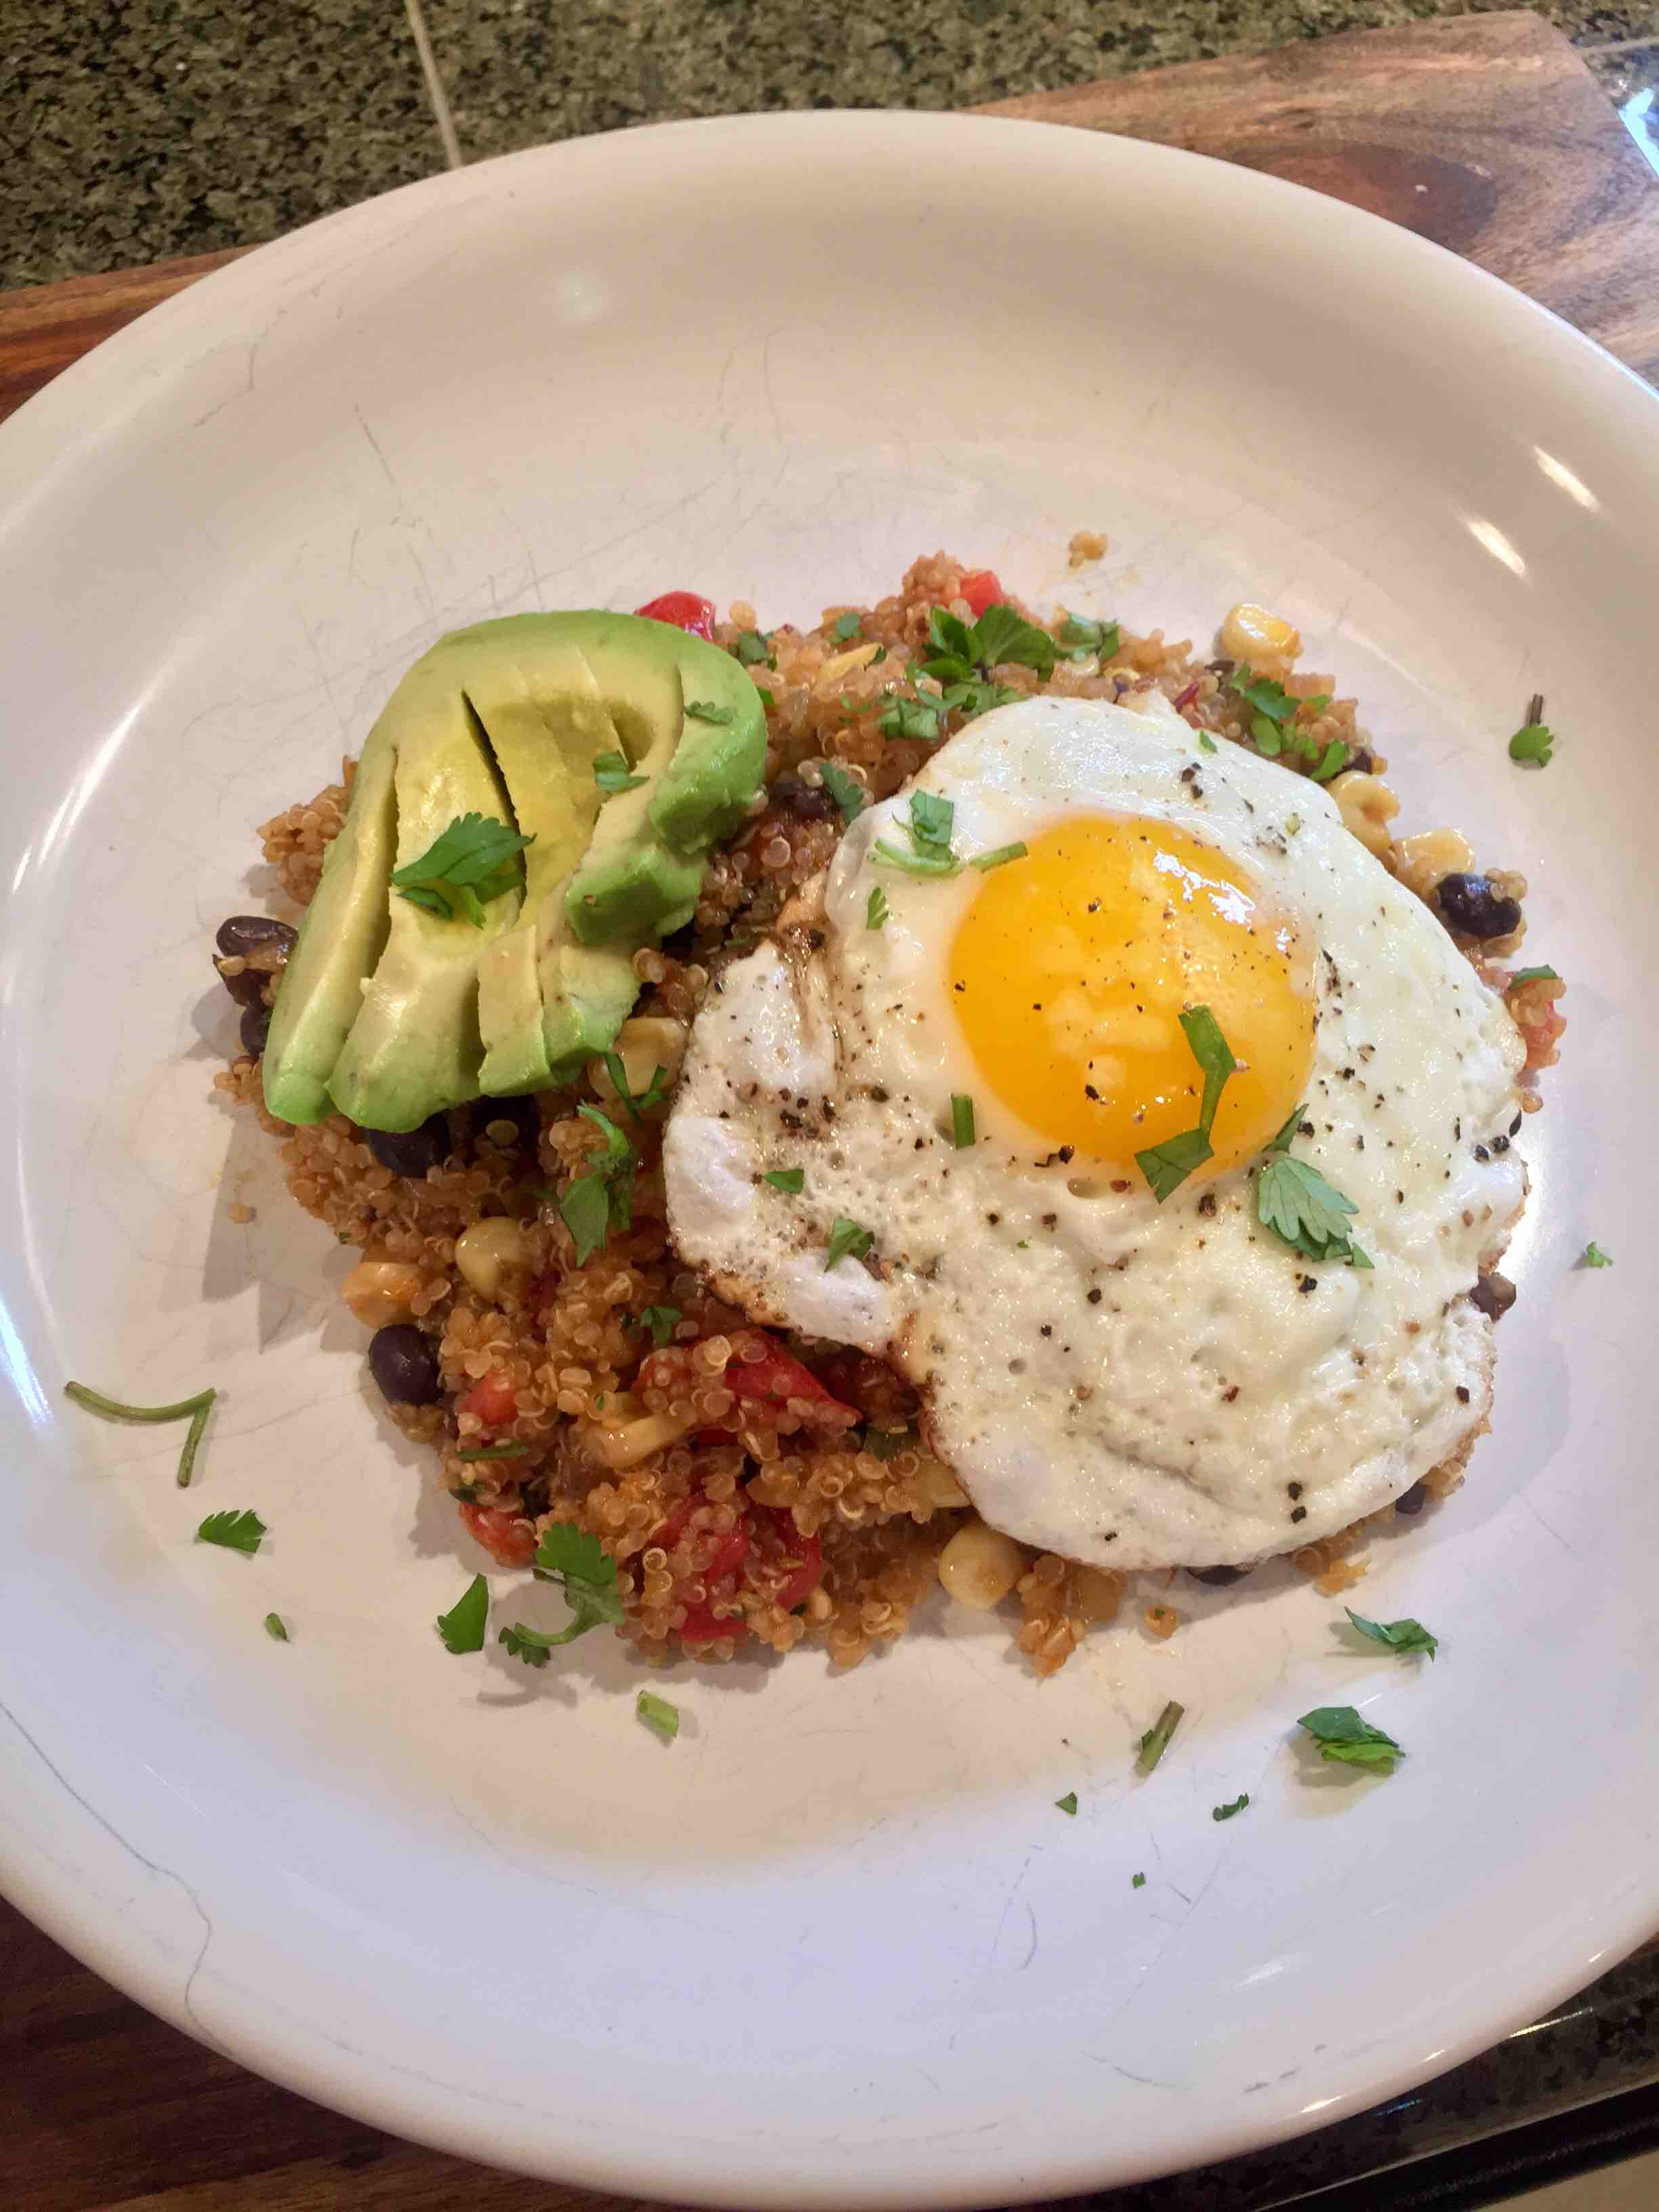fried egg: (802, 716, 1506, 1583)
